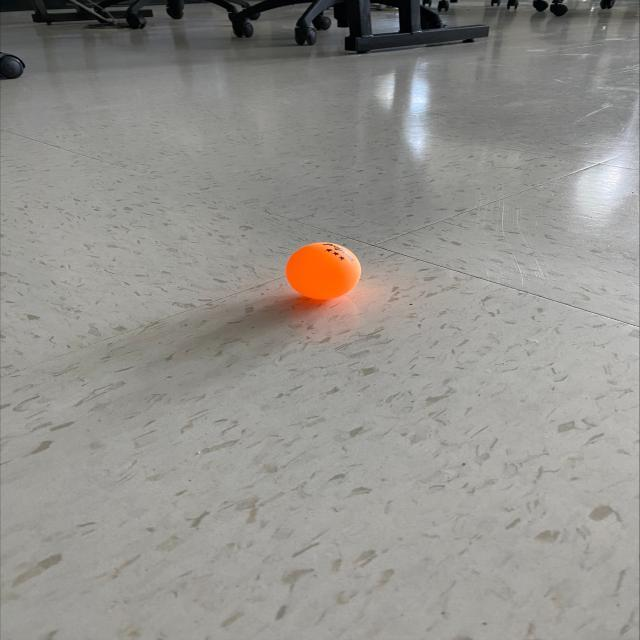ping-pong-ball: (282, 239, 364, 303)
